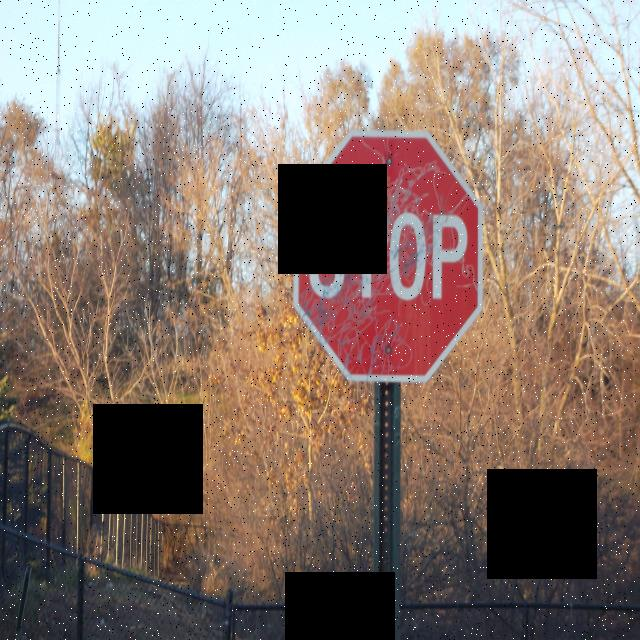stop: (292, 130, 482, 382)
